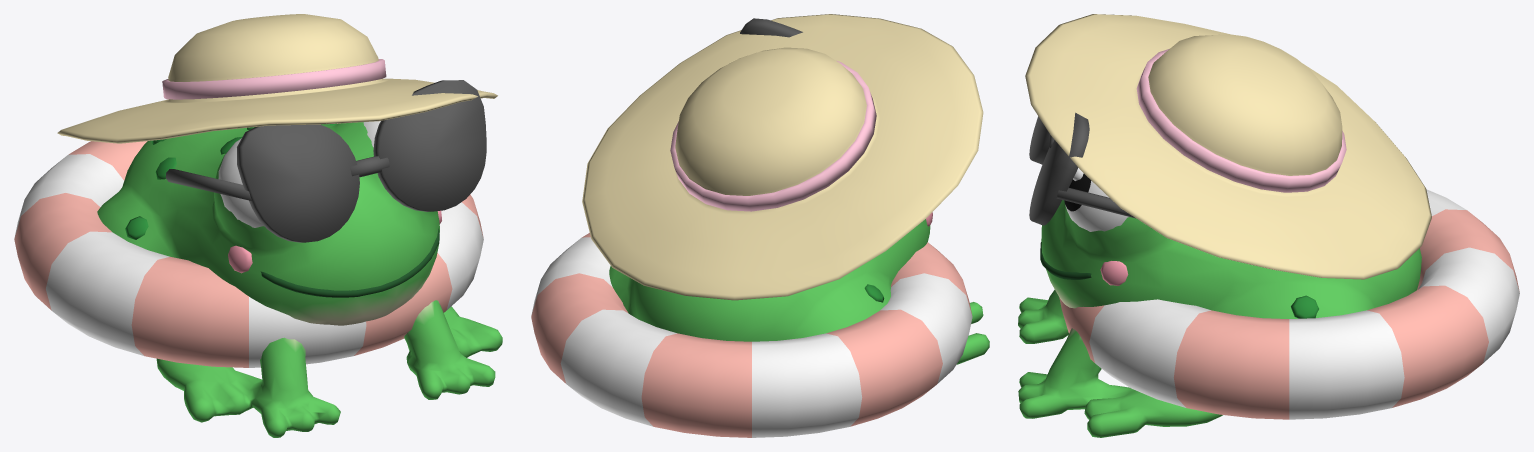
Rendered from frog.fbx.
3 renders of one model, left to right at view 1: azimuth 30°, elevation 25°; view 2: azimuth 150°, elevation 25°; view 3: azimuth 270°, elevation 25°, orthographic. The views are drawn at different scales.
Parts seen in each view (by area): view 1: Body, SwimRing, SunHat, Sunglasses, EyeR; view 2: SunHat, SwimRing, Body, Sunglasses; view 3: SunHat, SwimRing, Body, Sunglasses, EyeL.
Part boxes in pixels (left/top/right/bottom): Body: left=97, top=122, right=502, bottom=437; SwimRing: left=14, top=123, right=483, bottom=367; SunHat: left=57, top=14, right=497, bottom=143; Sunglasses: left=165, top=80, right=486, bottom=242; EyeR: left=218, top=138, right=264, bottom=227; SunHat: left=582, top=14, right=983, bottom=300; SwimRing: left=531, top=233, right=972, bottom=437; Body: left=609, top=212, right=989, bottom=364; Sunglasses: left=740, top=18, right=802, bottom=37; SunHat: left=1025, top=14, right=1431, bottom=279; SwimRing: left=1059, top=189, right=1519, bottom=419; Body: left=1018, top=200, right=1421, bottom=437; Sunglasses: left=1029, top=112, right=1135, bottom=225; EyeL: left=1064, top=168, right=1128, bottom=231.
Bounding box in the file's own units: 1.6 × 1.22 × 1.74.
Materials: 6 (1 with a texture image).
